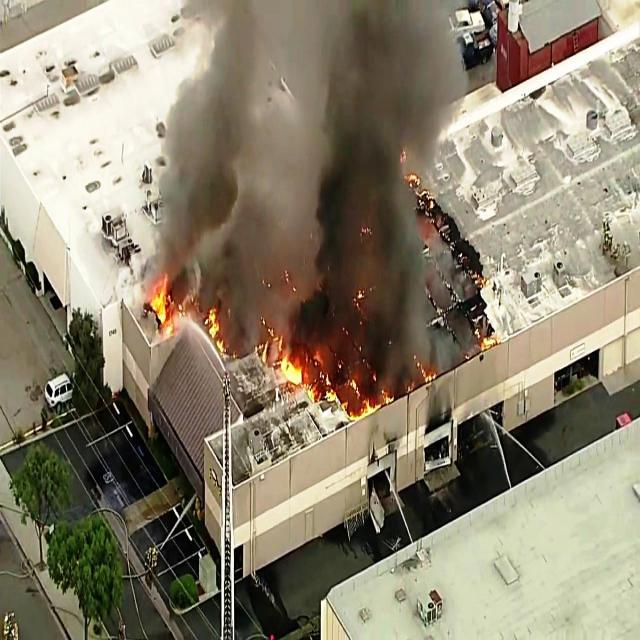Fire: (278, 348, 314, 394), (148, 280, 176, 323)
Smoke: (300, 26, 416, 336)
